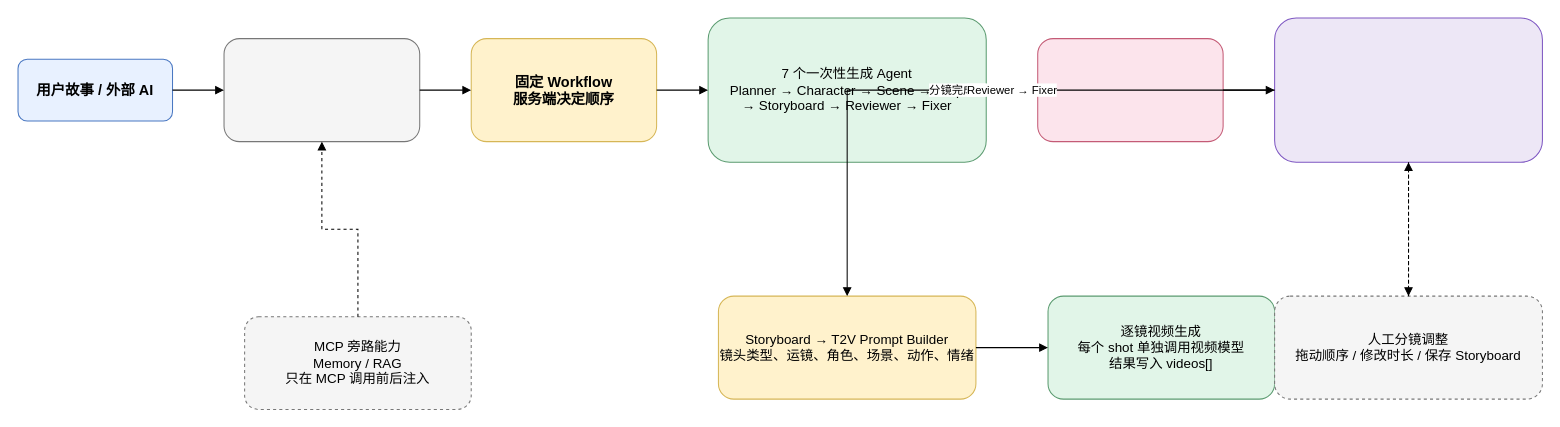
Some shapes in this 1560 by 427 pixel diagram are drawn without their labels. The centre of each missing label's shape, as x and y in pixels:
Project State 角色 / 场景 / 道具 / Storyboard / Trace / Version SQLite JSON: point 1408,89
Web API / MCP Server 创建、查询、重生成、渲染: point 321,90
结构校验 JSON / Pydantic 失败时宽松回退: point 1130,90
